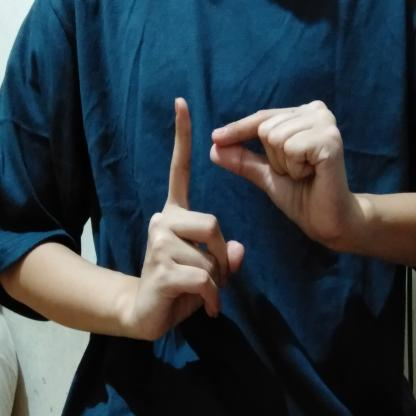son: (125, 88, 383, 348)
